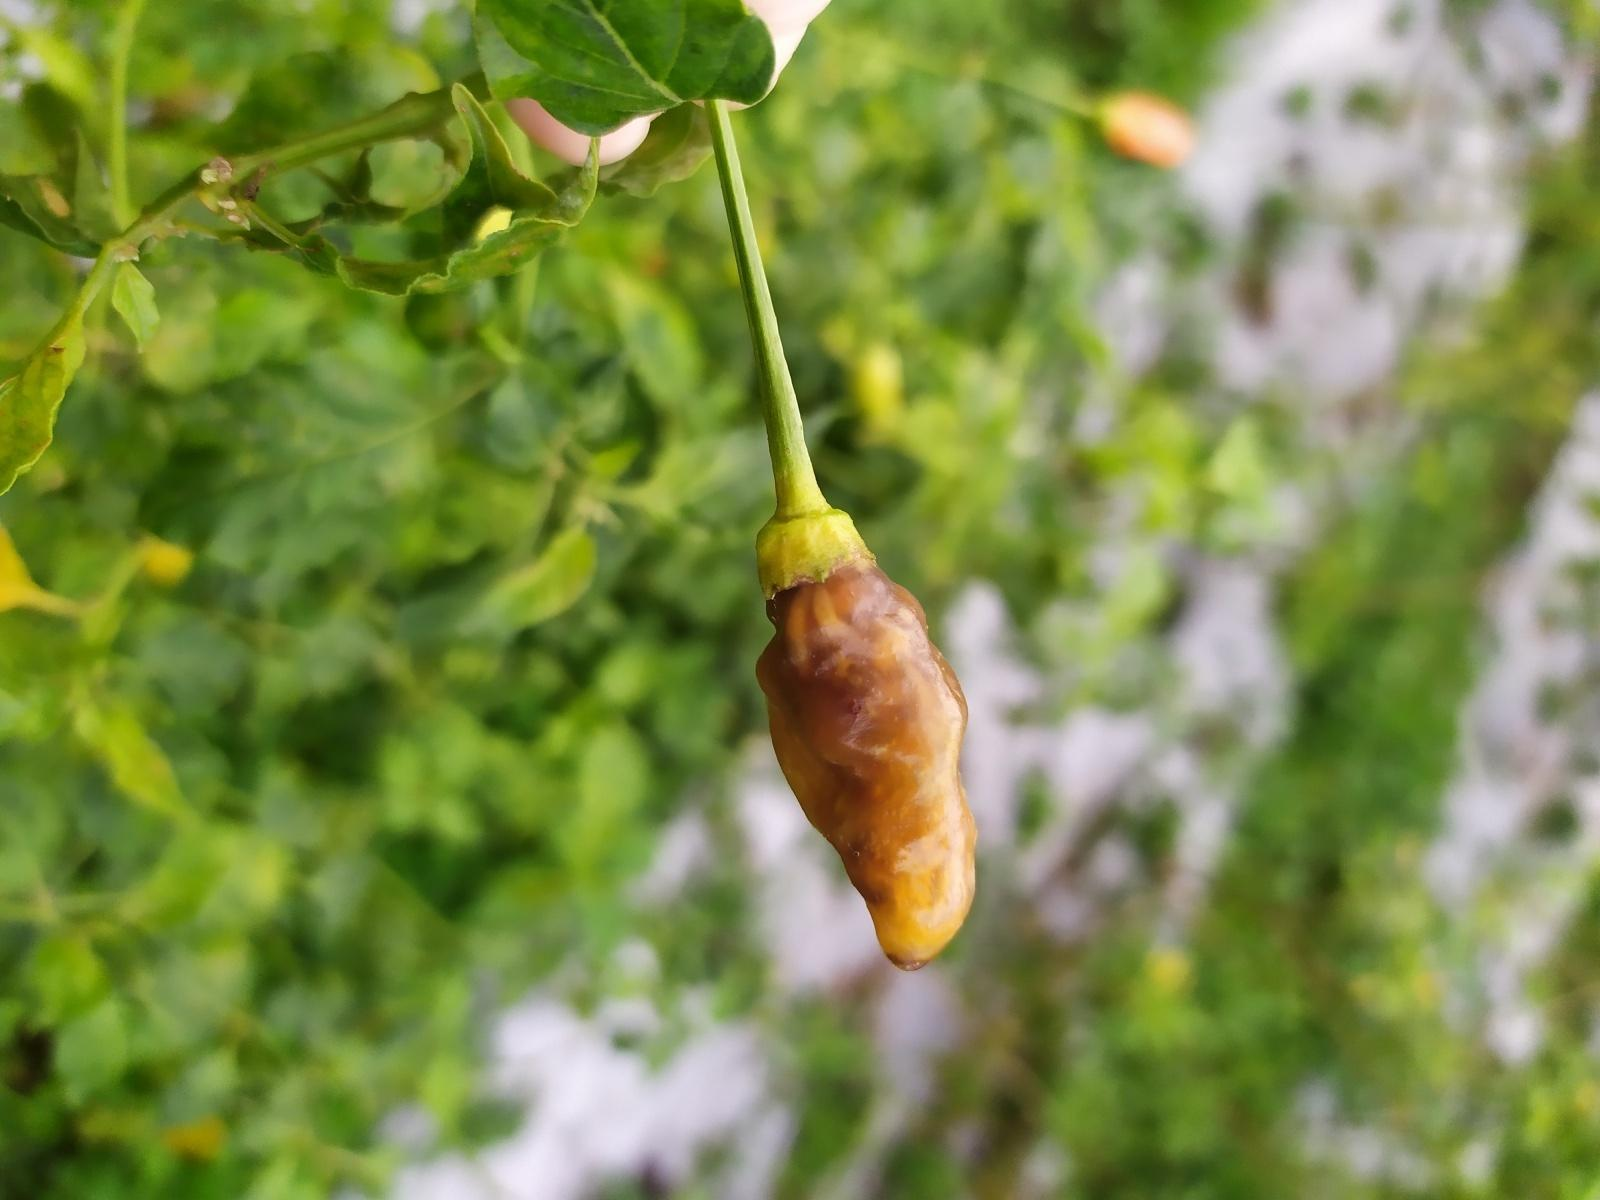lalat_buah: (753, 556, 978, 971)
